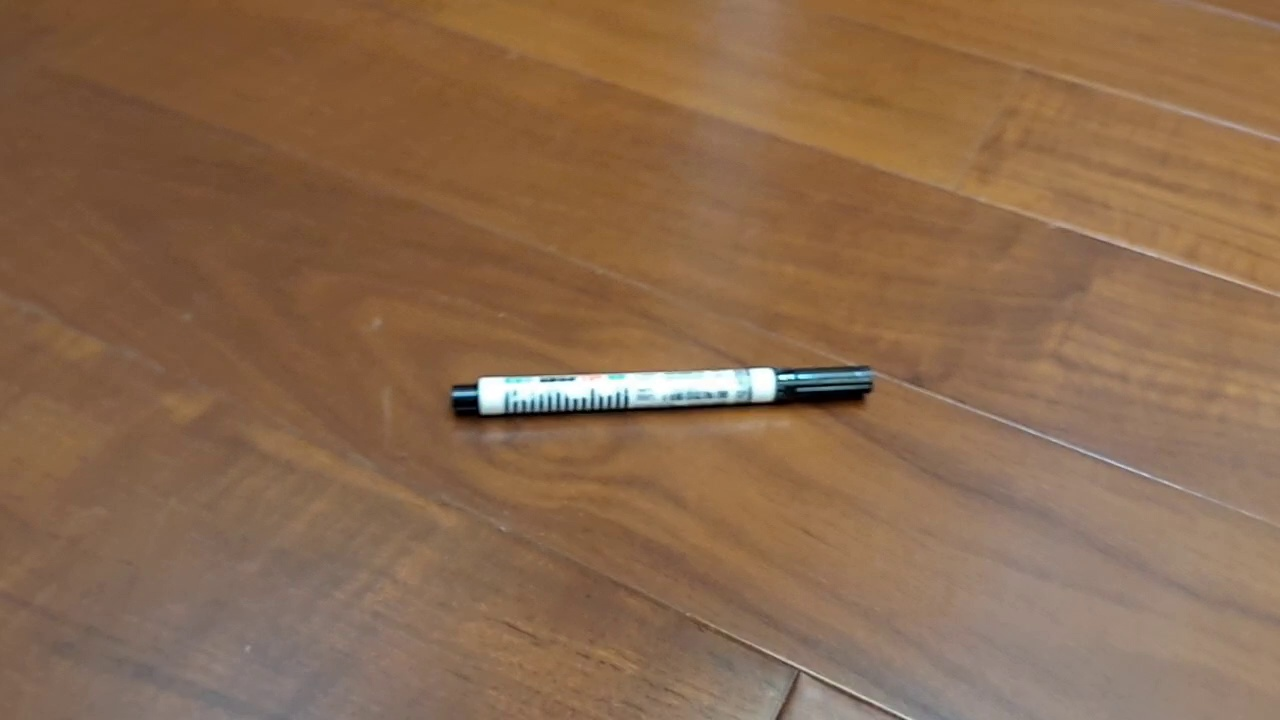pen: (449, 364, 875, 419)
